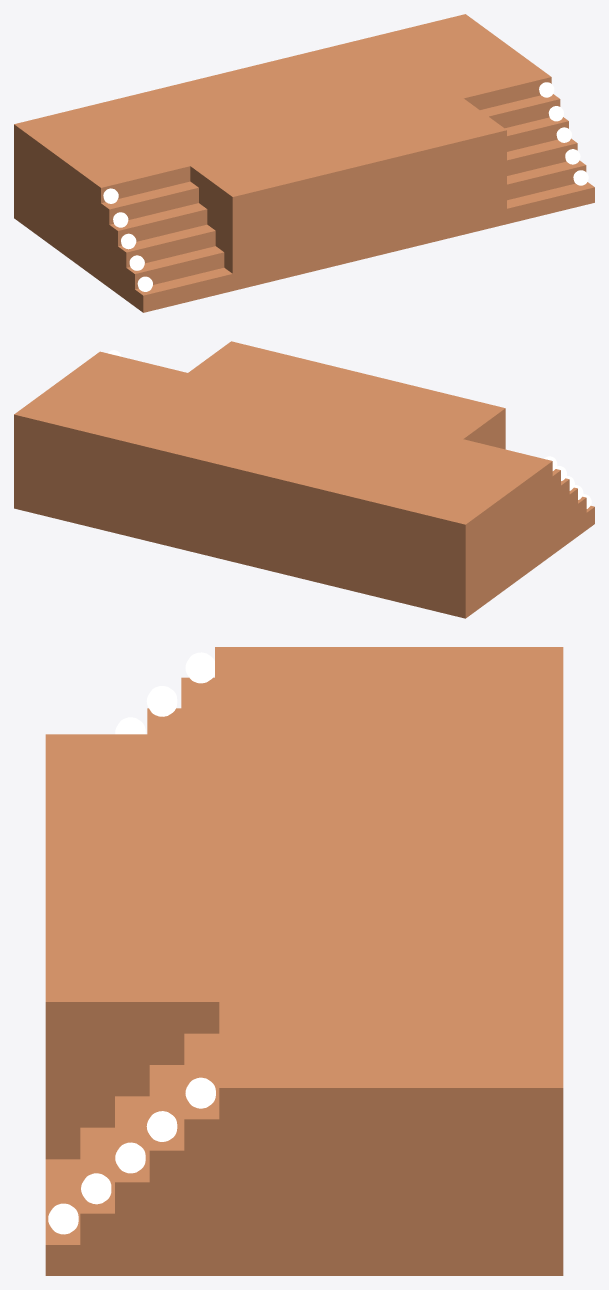
File: tarima.glb
3 views of the same model, one above another, from view 1: azimuth 30°, elevation 25°; view 2: azimuth 150°, elevation 25°; view 3: azimuth 270°, elevation 25° (orthographic). The views are drawn at different scales.
Visible parts, largest first — view 1: Cube; view 2: Cube; view 3: Cube.
Part boxes in pixels (x1=…): Cube: x1=14, y1=14, x2=594, y2=312; Cube: x1=14, y1=341, x2=594, y2=618; Cube: x1=45, y1=647, x2=563, y2=1275.
Size of the model in its own units: 10.06 by 2 by 4.99.
